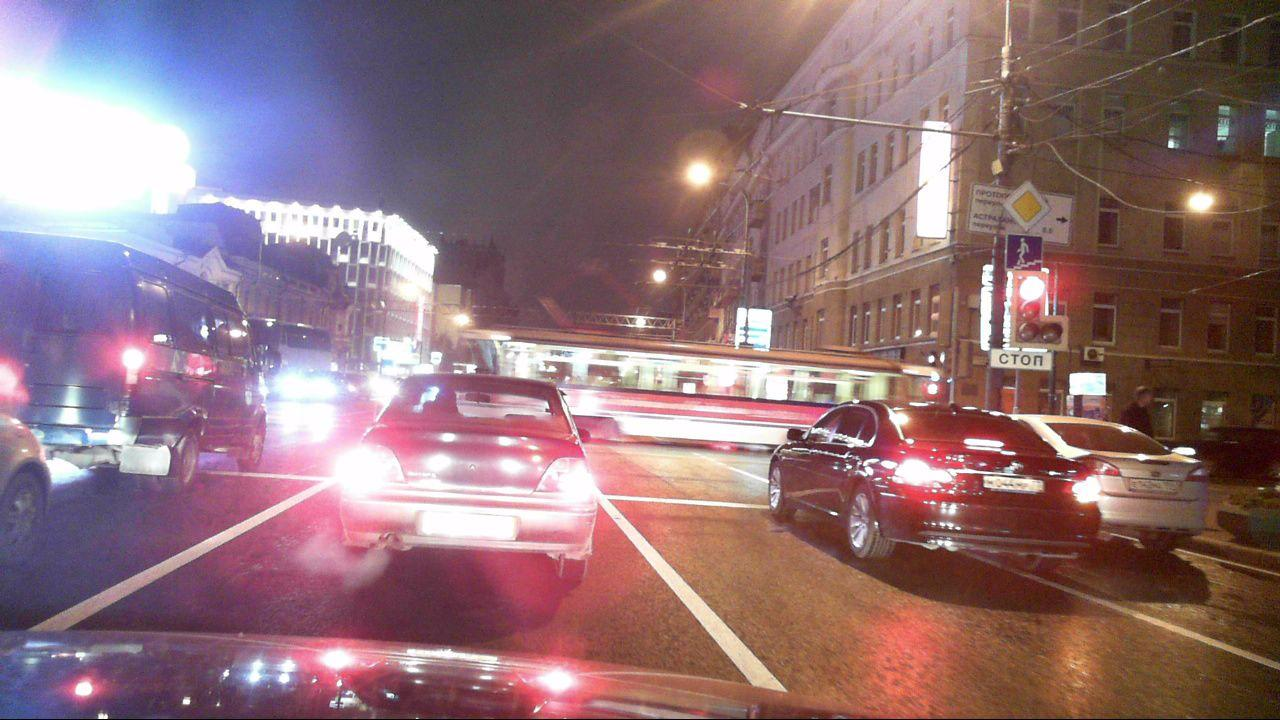2_1: (1004, 178, 1048, 228)
6_16: (992, 348, 1052, 370)
6_6: (1006, 231, 1046, 274)
